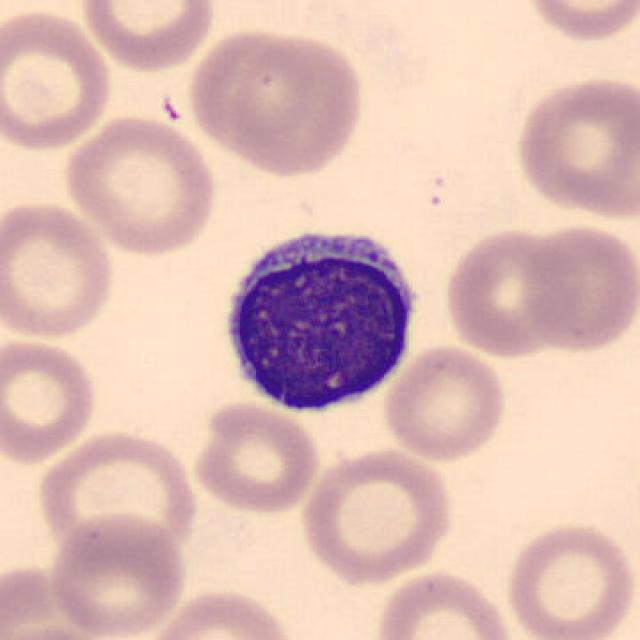Lymphocyte: (211, 216, 425, 420)
RBC: (212, 28, 368, 180), (58, 111, 220, 257), (295, 444, 459, 586), (34, 427, 201, 564), (510, 72, 638, 222), (46, 512, 190, 638), (441, 224, 574, 360), (0, 4, 116, 155), (0, 198, 119, 342), (519, 220, 638, 358), (502, 518, 636, 640), (380, 342, 510, 464), (188, 398, 322, 516), (0, 333, 101, 467), (371, 567, 519, 640), (74, 0, 218, 74), (0, 558, 127, 640), (142, 585, 300, 640), (519, 0, 640, 46), (0, 622, 116, 640)
